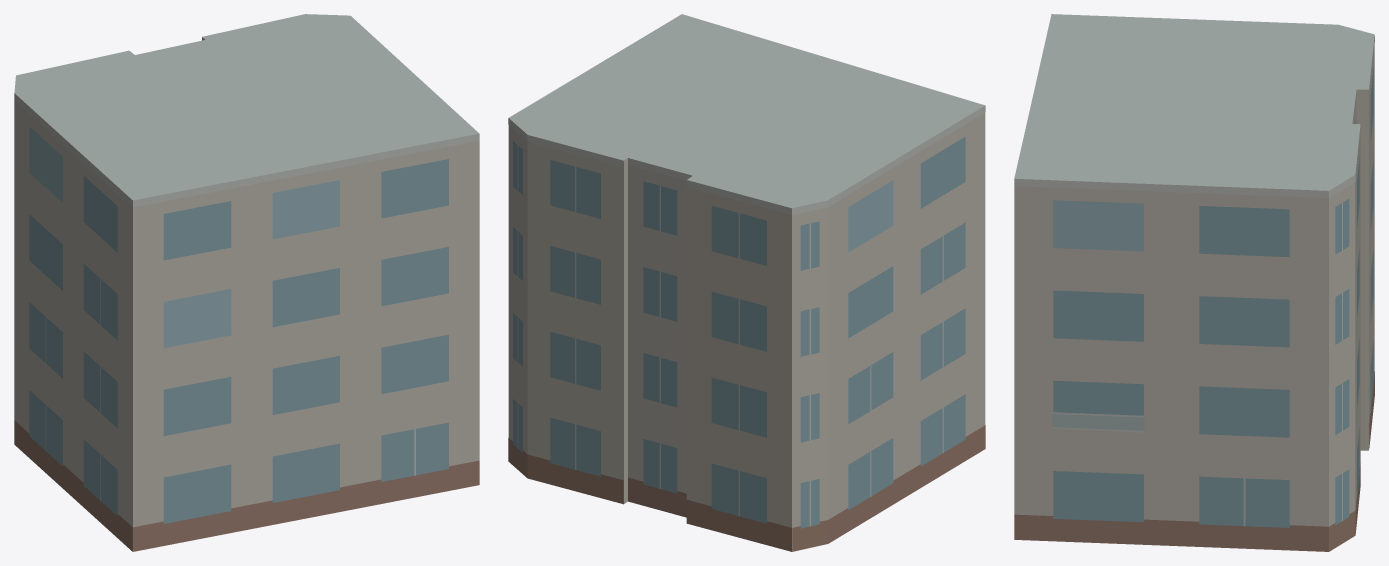
File: survey-upis-32672217.glb
3 renders of one model, left to right at view 1: azimuth 30°, elevation 25°; view 2: azimuth 150°, elevation 25°; view 3: azimuth 270°, elevation 25°, orthographic. The views are drawn at different scales.
Parts seen in each view (by area): view 1: survey-upis-32672217.tmp; view 2: survey-upis-32672217.tmp; view 3: survey-upis-32672217.tmp.
Part boxes in pixels (<box>): survey-upis-32672217.tmp: <box>14,14,479,551</box>; survey-upis-32672217.tmp: <box>508,14,985,551</box>; survey-upis-32672217.tmp: <box>1014,14,1374,551</box>.
Bounding box in the file's own units: 12.83 × 12.2 × 11.05.
